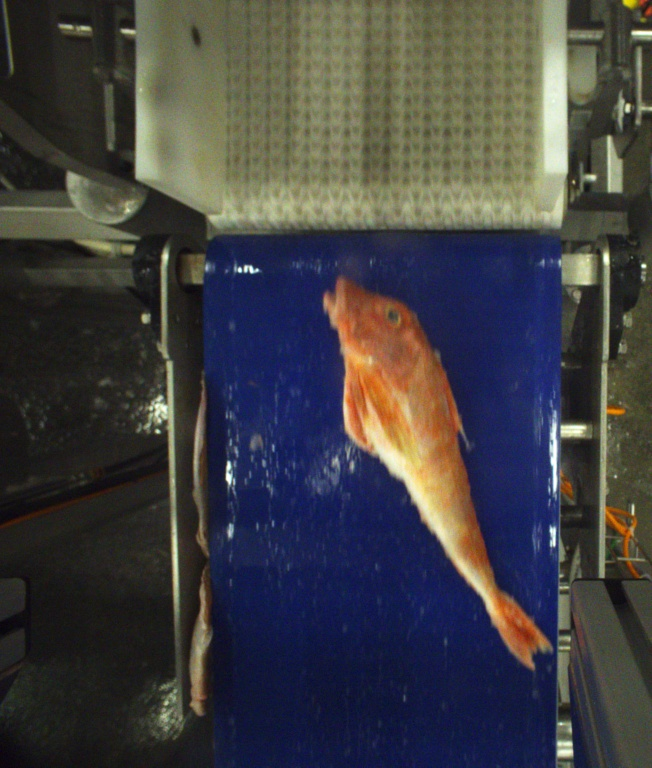GUU: (324, 278, 555, 671)
